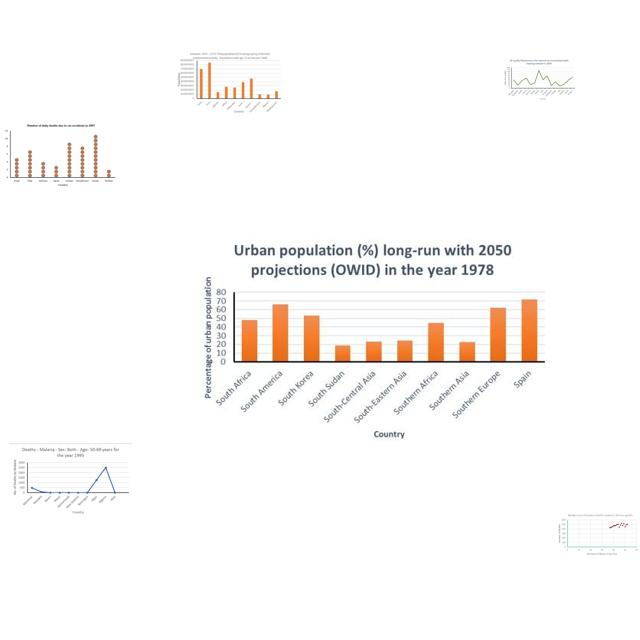Graph: (196, 239, 551, 442), (9, 443, 132, 518), (4, 122, 118, 190), (177, 51, 283, 114), (557, 513, 640, 557), (503, 58, 576, 101)
